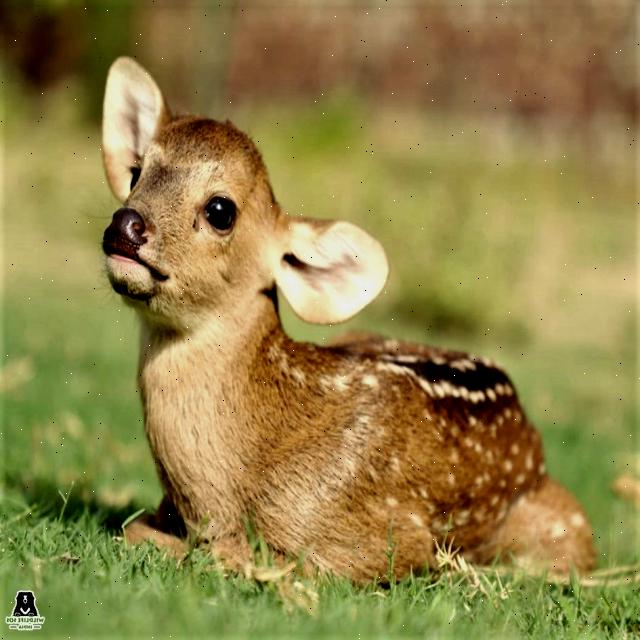deer: (79, 52, 594, 572)
